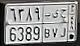3: (16, 6, 24, 40)
6: (9, 6, 17, 44)
8: (26, 6, 33, 40)
9: (34, 7, 42, 42)
B: (43, 10, 52, 42)
J: (60, 8, 70, 38)
V: (51, 9, 60, 44)
